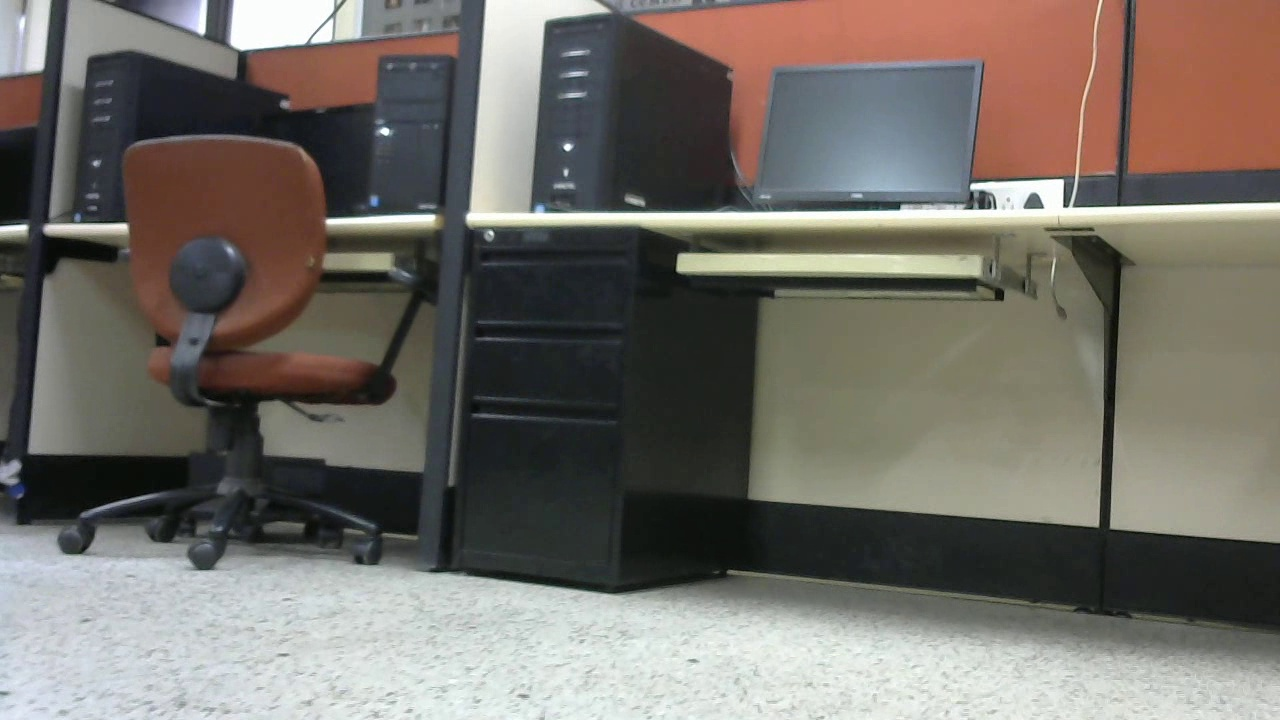chair: (61, 135, 436, 565)
